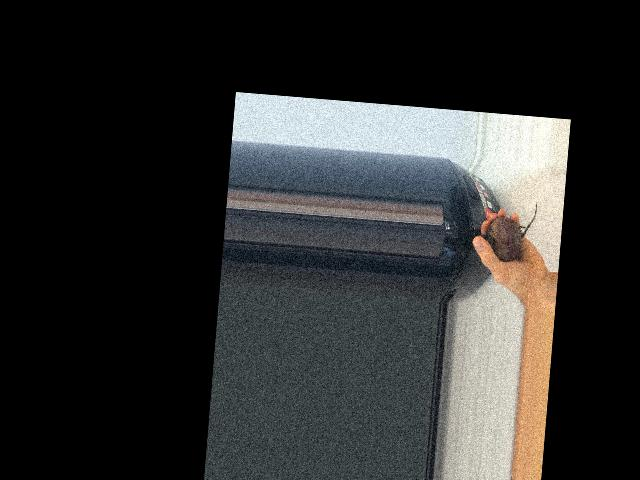beet: (479, 197, 537, 263)
